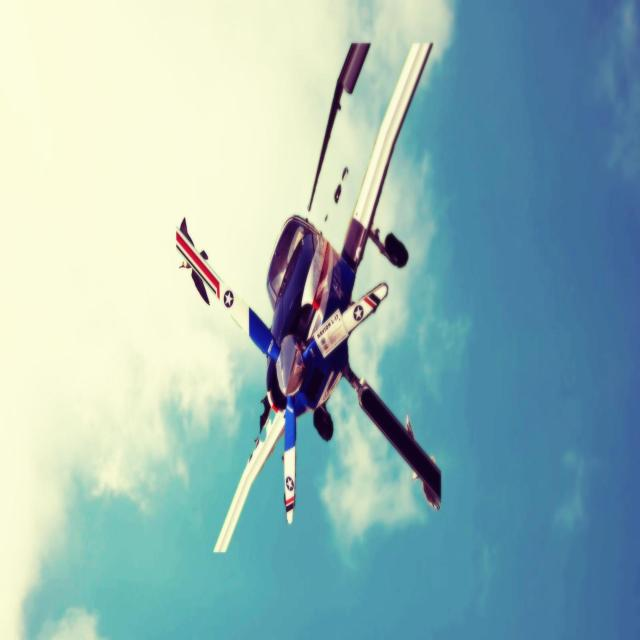airplane: (175, 38, 442, 553)
